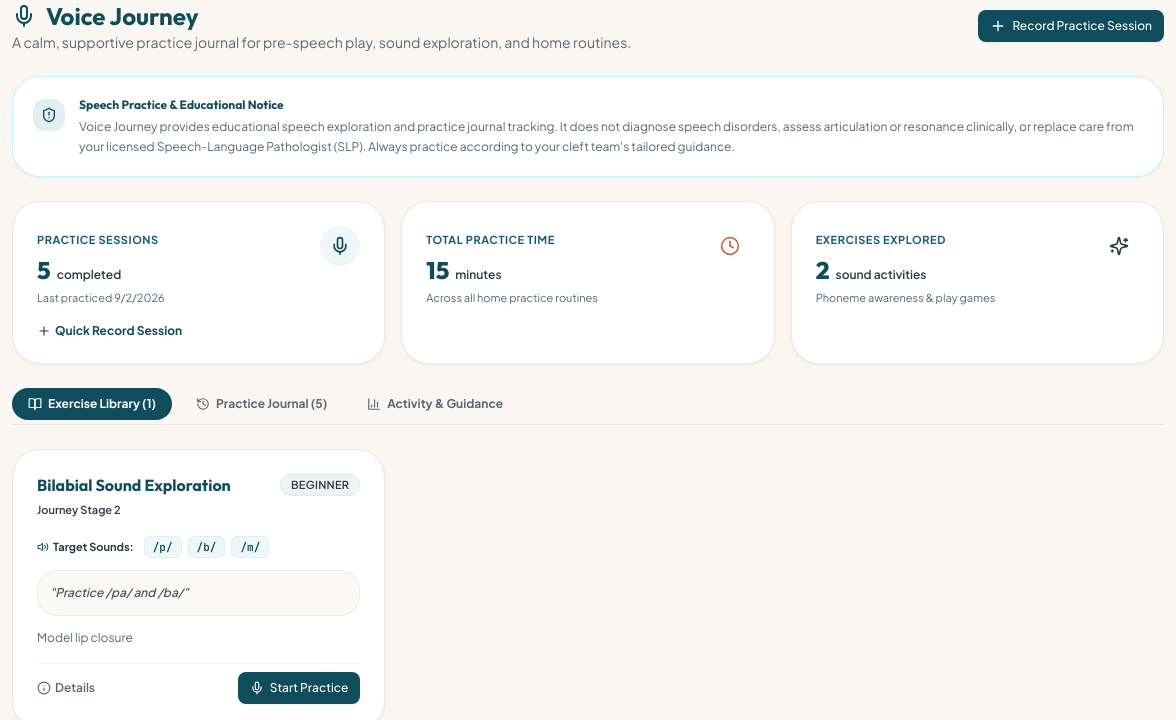
Scenario: VoicePage Component › switches between tabs cleanly
The width and height of the screenshot is (1176, 720).
# Click Practice Journal Tab
Click the button "Practice Journal (5)" at {"x": 262, "y": 404}, box [180, 388, 343, 420]
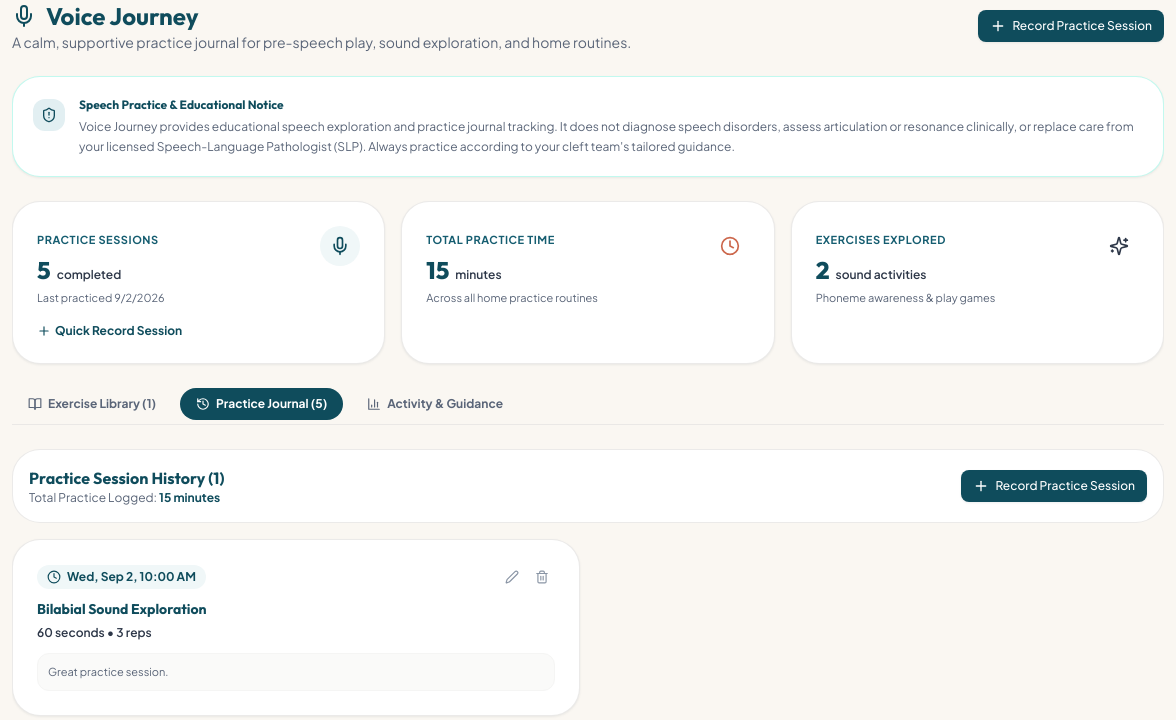
Result: the heading "Practice Session History (1)" is shown at [29, 466, 224, 490]
# Click Activity & Guidance Tab
Click the button "Activity & Guidance" at {"x": 435, "y": 404}, box [351, 388, 519, 420]
(page scrolled)
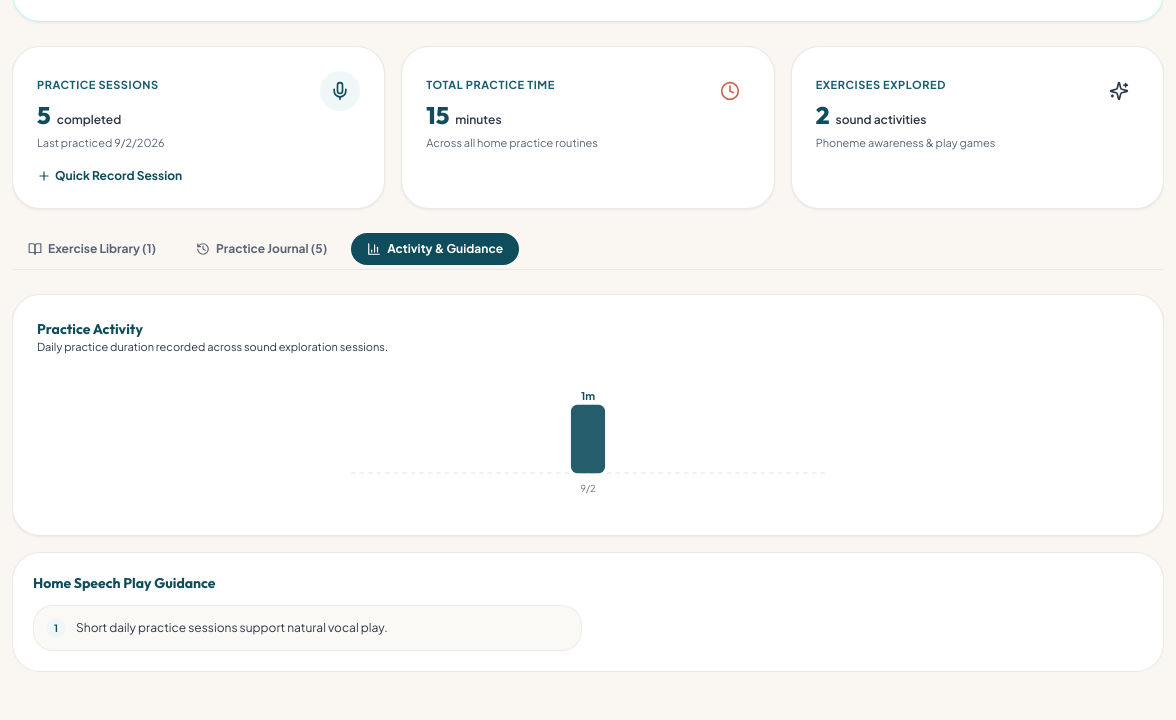
Result: the heading "Home Speech Play Guidance" is shown at [33, 574, 216, 592]
